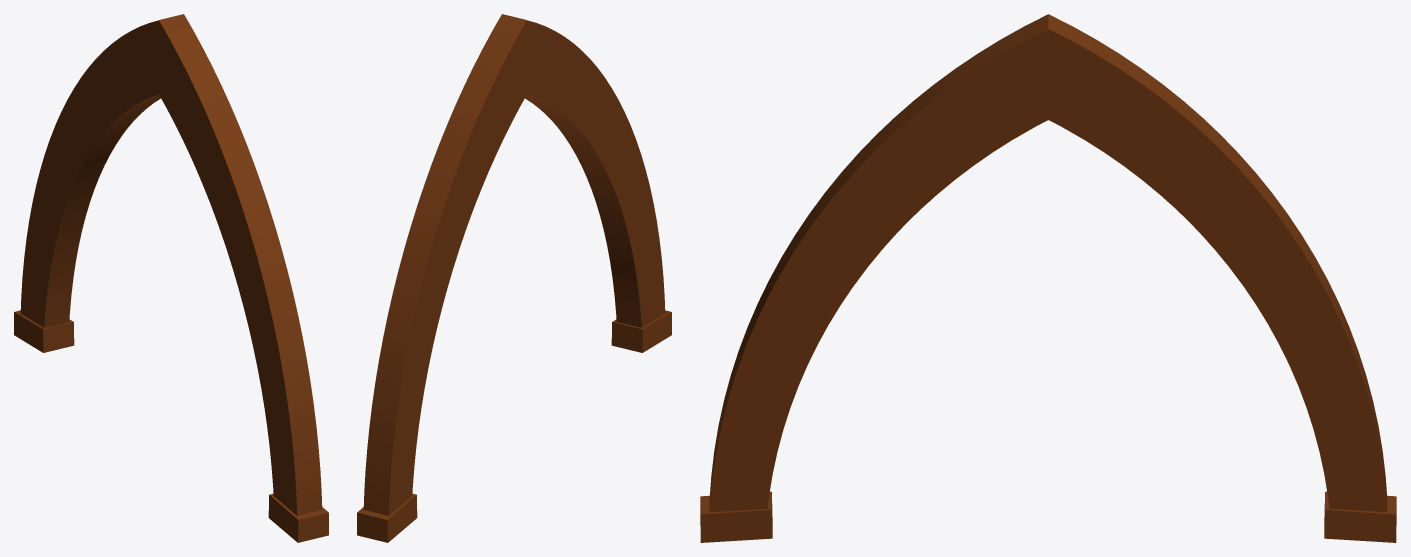
File: Pillar_Arch_01.fbx
The picture shows the model from 3 angles, left to right: view 1: azimuth 30°, elevation 25°; view 2: azimuth 150°, elevation 25°; view 3: azimuth 270°, elevation 25°; orthographic projection. The views are drawn at different scales.
Parts seen in each view (by area): view 1: Pillar_Arch_01; view 2: Pillar_Arch_01; view 3: Pillar_Arch_01.
Part boxes in pixels (left/top/right/bottom): Pillar_Arch_01: left=14, top=14, right=328, bottom=542; Pillar_Arch_01: left=357, top=14, right=671, bottom=542; Pillar_Arch_01: left=700, top=14, right=1396, bottom=542.
Bounding box in the file's own units: 63.71 × 824 × 1016.
